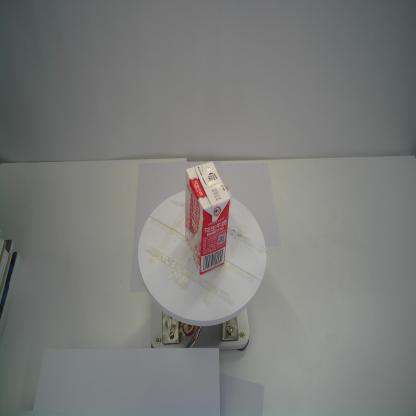Milk: (184, 160, 232, 276)
